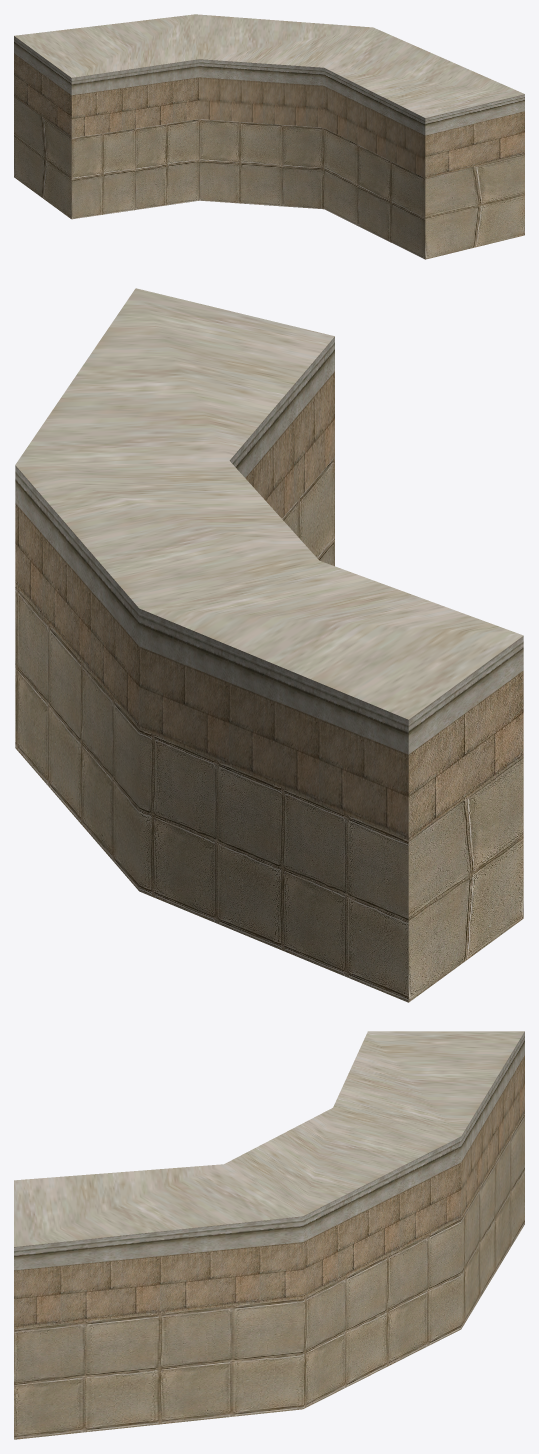
File: thm_nboo_imprv_short_curved_wall_small_s01_l2.fbx
3 views of the same model, one above another, from view 1: azimuth 30°, elevation 25°; view 2: azimuth 150°, elevation 25°; view 3: azimuth 270°, elevation 25° (orthographic). The views are drawn at different scales.
Parts seen in each view (by area): view 1: mesh_node; view 2: mesh_node; view 3: mesh_node.
Part boxes in pixels (x1,y1,x2,y2): mesh_node: (14,14,524,259); mesh_node: (15,288,523,1002); mesh_node: (14,1031,524,1439).
Size of the model in its own units: 4.72 by 1.97 by 4.73.
